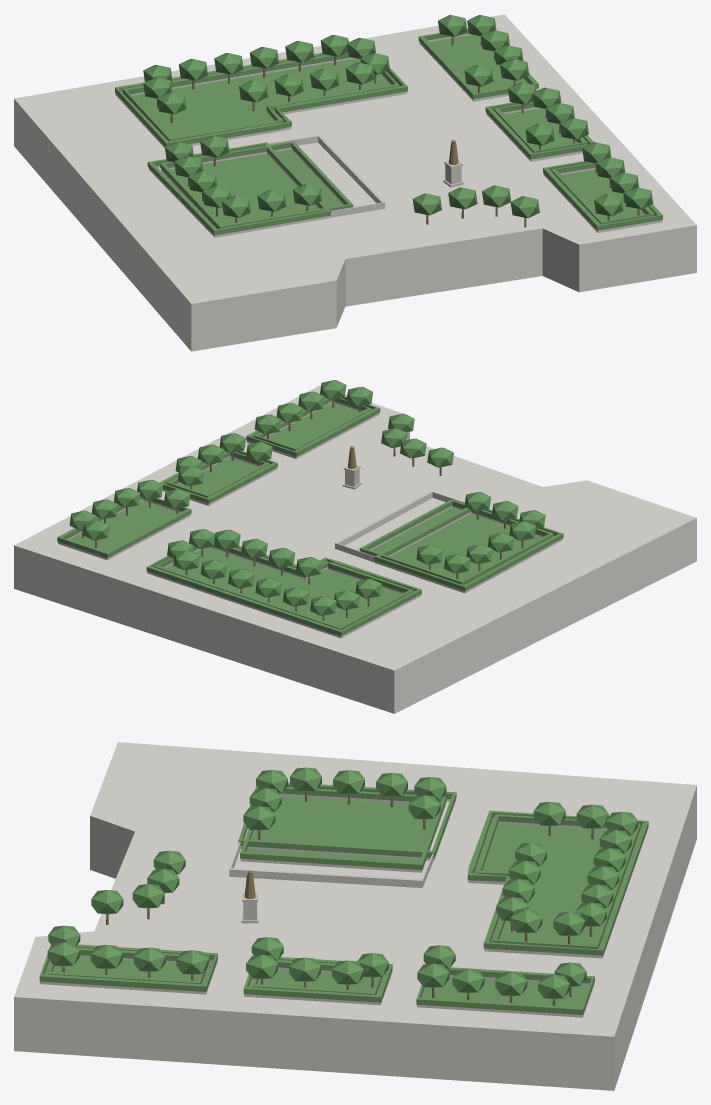
File: plaza-bolivar.glb
The picture shows the model from 3 angles, top to bottom: view 1: azimuth 30°, elevation 25°; view 2: azimuth 150°, elevation 25°; view 3: azimuth 270°, elevation 25°; orthographic projection. The views are drawn at different scales.
Parts seen in each view (by area): view 1: plataforma, setos, arboles, jardineras; view 2: plataforma, setos, arboles, jardineras; view 3: plataforma, setos, arboles, jardineras.
Part boxes in pixels (left/top/right/bottom): plataforma: left=14, top=14, right=696, bottom=351; setos: left=115, top=28, right=662, bottom=235; arboles: left=143, top=15, right=653, bottom=227; jardineras: left=115, top=33, right=662, bottom=237; plataforma: left=14, top=385, right=696, bottom=713; setos: left=57, top=396, right=563, bottom=636; arboles: left=69, top=380, right=545, bottom=620; jardineras: left=58, top=401, right=562, bottom=638; plataforma: left=14, top=742, right=696, bottom=1090; setos: left=39, top=782, right=648, bottom=1014; arboles: left=47, top=767, right=637, bottom=1005; jardineras: left=40, top=793, right=647, bottom=1017.
Bounding box in the file's own units: 96.4 × 15.77 × 94.39.
